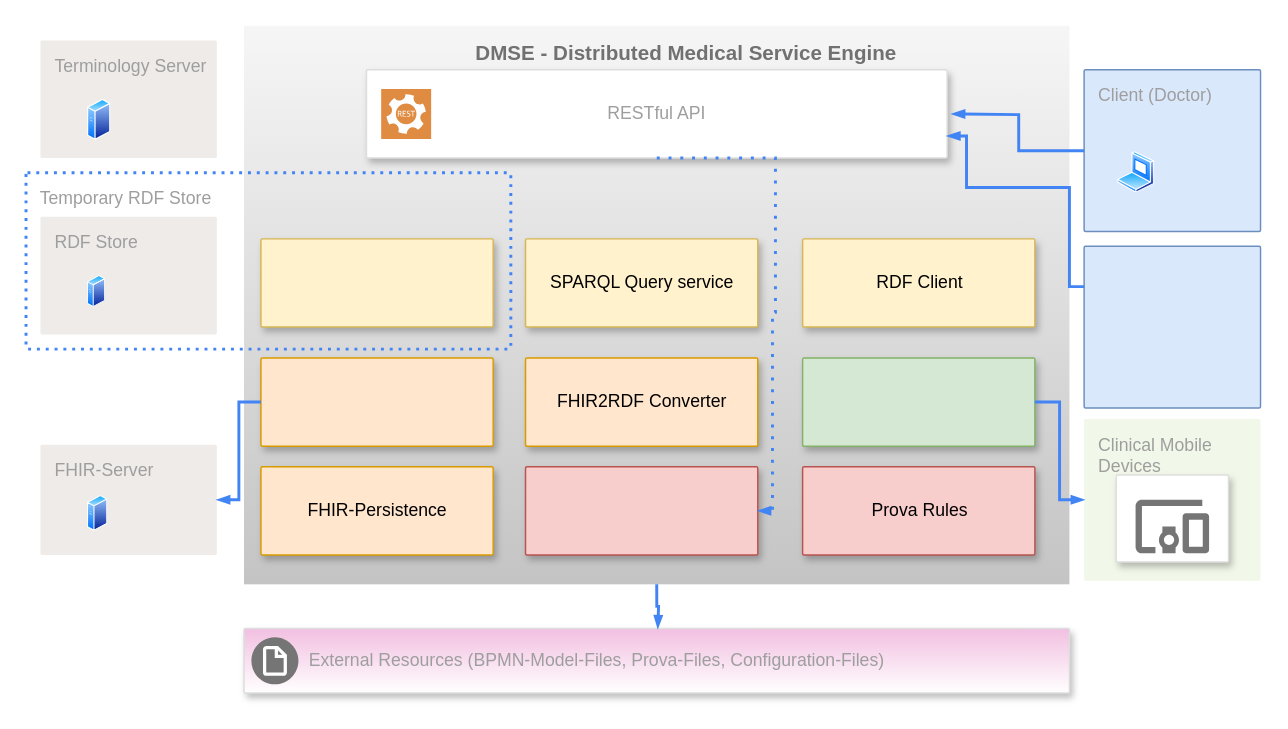
The diagram is 1288 pixels wide and 729 high, and some of its shapes have lost their labels. The shapes that lost their labels are listed below. From the top down, each one's centre as x and y in pixels, then its label:
At (x=378, y=284): "RDF Persistence".
At (x=1172, y=326): "Client (other DMSE)".
At (x=378, y=403): "FHIR-Client".
At (x=919, y=403): "HTTP-Alert Client".
At (x=642, y=512): "Camunda Execution Engine".
